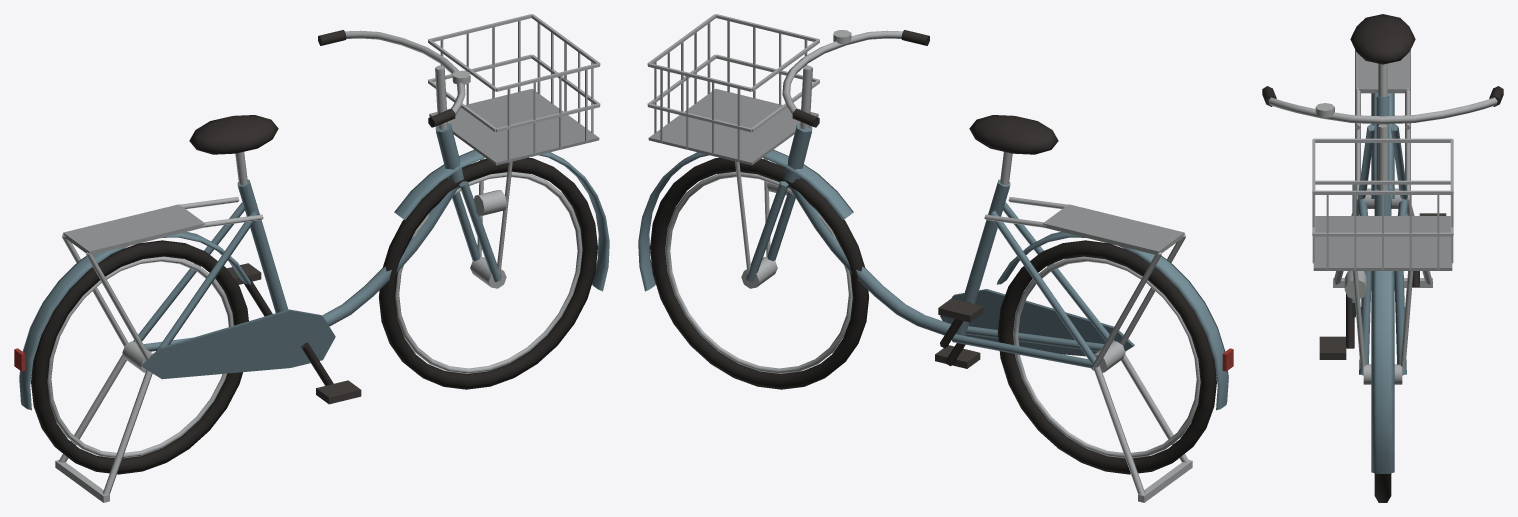
The model's file is prop_bicycle_01.glb.
The picture shows the model from 3 angles, left to right: view 1: azimuth 30°, elevation 25°; view 2: azimuth 150°, elevation 25°; view 3: azimuth 270°, elevation 25°; orthographic projection. The views are drawn at different scales.
Parts seen in each view (by area): view 1: prop_bicycle_01; view 2: prop_bicycle_01; view 3: prop_bicycle_01.
Boxes of the visible parts, x1=… form: prop_bicycle_01: x1=14, y1=14, x2=609, y2=502; prop_bicycle_01: x1=638, y1=14, x2=1233, y2=502; prop_bicycle_01: x1=1262, y1=14, x2=1503, y2=502.
Bounding box in the file's own units: 1.83 × 1.02 × 0.6276.
